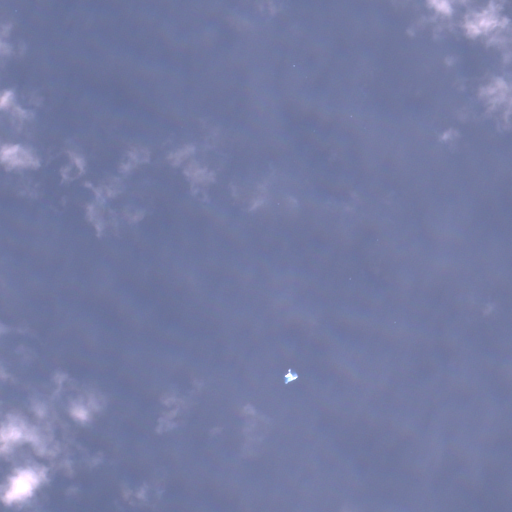Iceberg: (284, 368, 298, 383), (293, 65, 294, 66)
